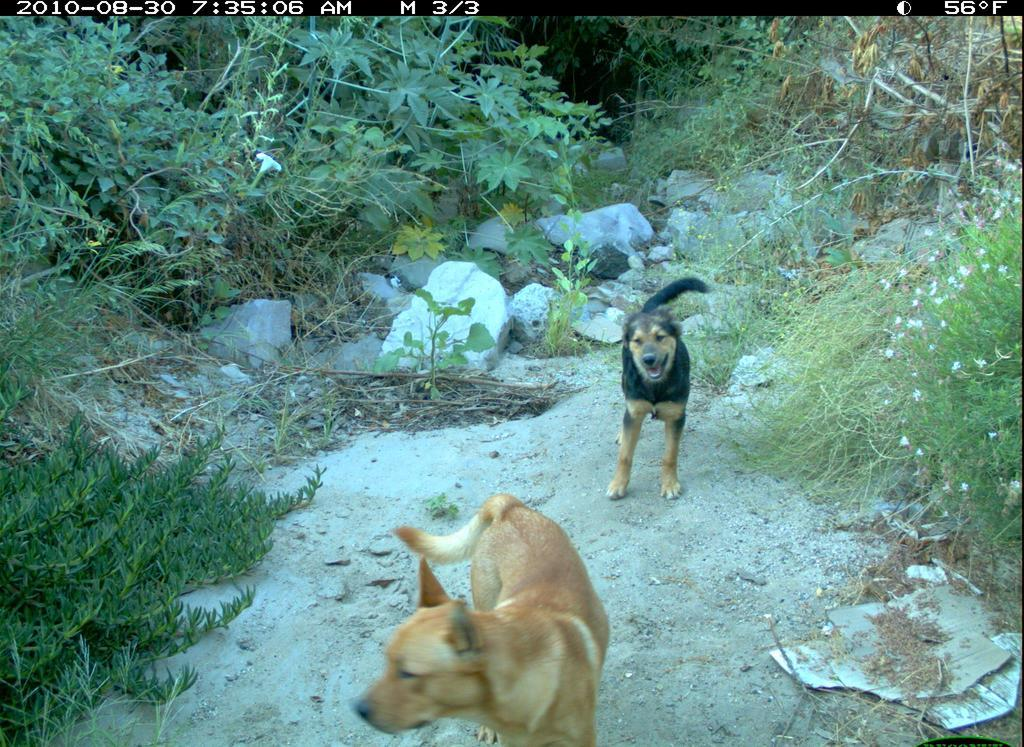dog: (345, 480, 637, 747), (600, 272, 717, 507)
